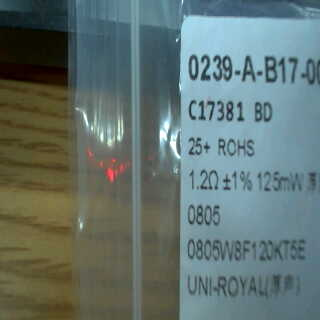1.2R: (185, 168, 221, 232)
